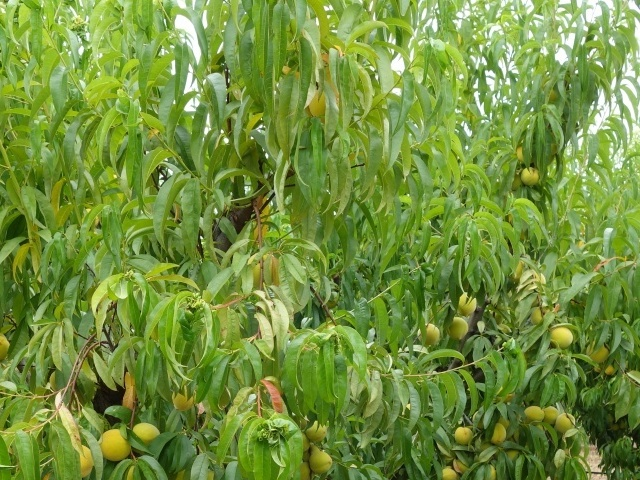peach: (96, 426, 135, 466), (129, 417, 166, 448), (307, 89, 333, 122), (169, 385, 198, 414), (442, 315, 471, 344), (548, 324, 577, 351), (587, 335, 612, 366), (308, 448, 334, 476), (416, 322, 442, 350), (305, 418, 330, 444), (521, 402, 546, 428), (456, 289, 480, 315), (553, 412, 578, 436), (453, 422, 475, 447), (520, 165, 542, 188), (487, 421, 508, 445), (540, 403, 561, 427), (530, 304, 551, 327), (510, 171, 529, 196)
